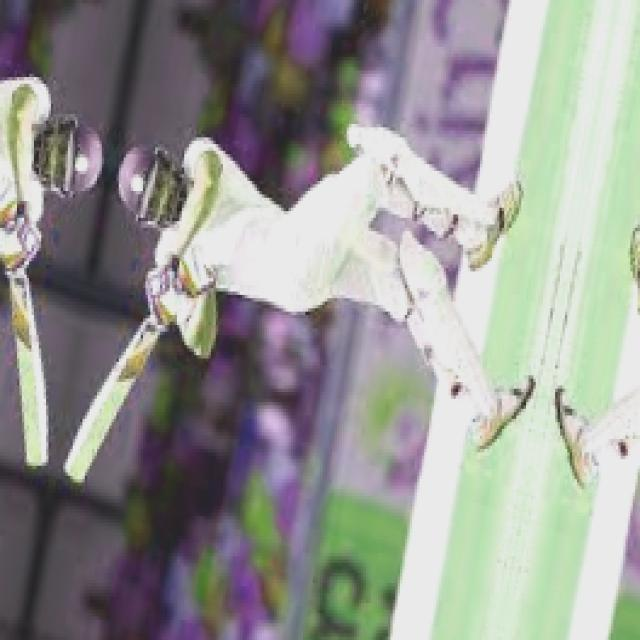toe: (60, 453, 92, 494)
